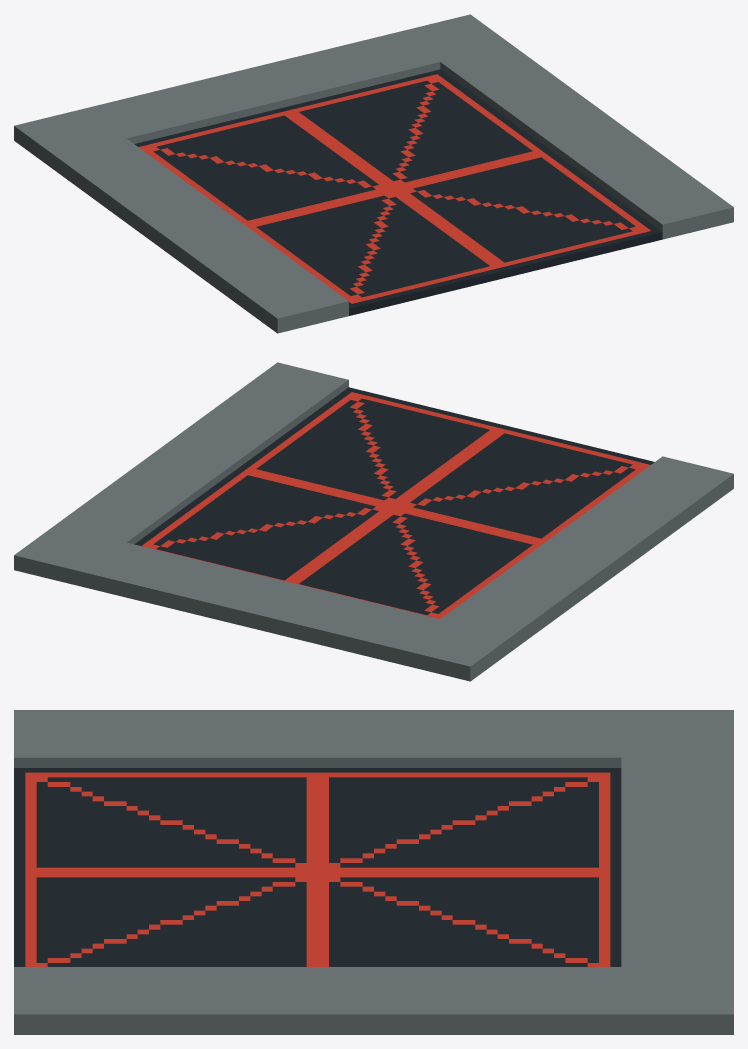
Rendered from Destruction.obj.
3 views of the same model, one above another, from view 1: azimuth 30°, elevation 25°; view 2: azimuth 150°, elevation 25°; view 3: azimuth 270°, elevation 25° (orthographic). The views are drawn at different scales.
Size of the model in its own units: 6.4 by 0.2 by 6.4.
Materials: 1 (1 with a texture image).
